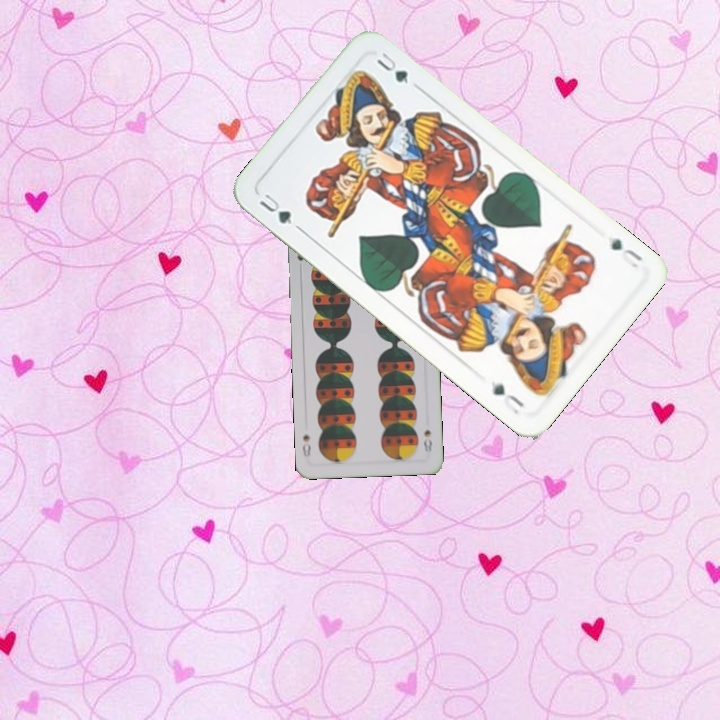GU: (255, 189, 303, 233), (606, 233, 645, 271)
S8: (419, 425, 435, 457)
